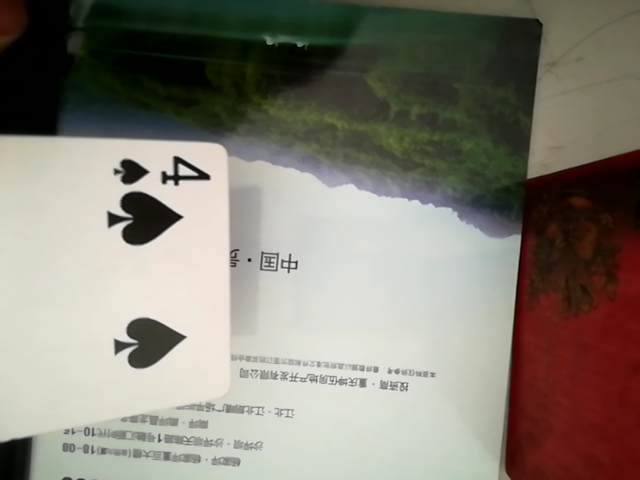ht 4: (0, 124, 244, 443)
